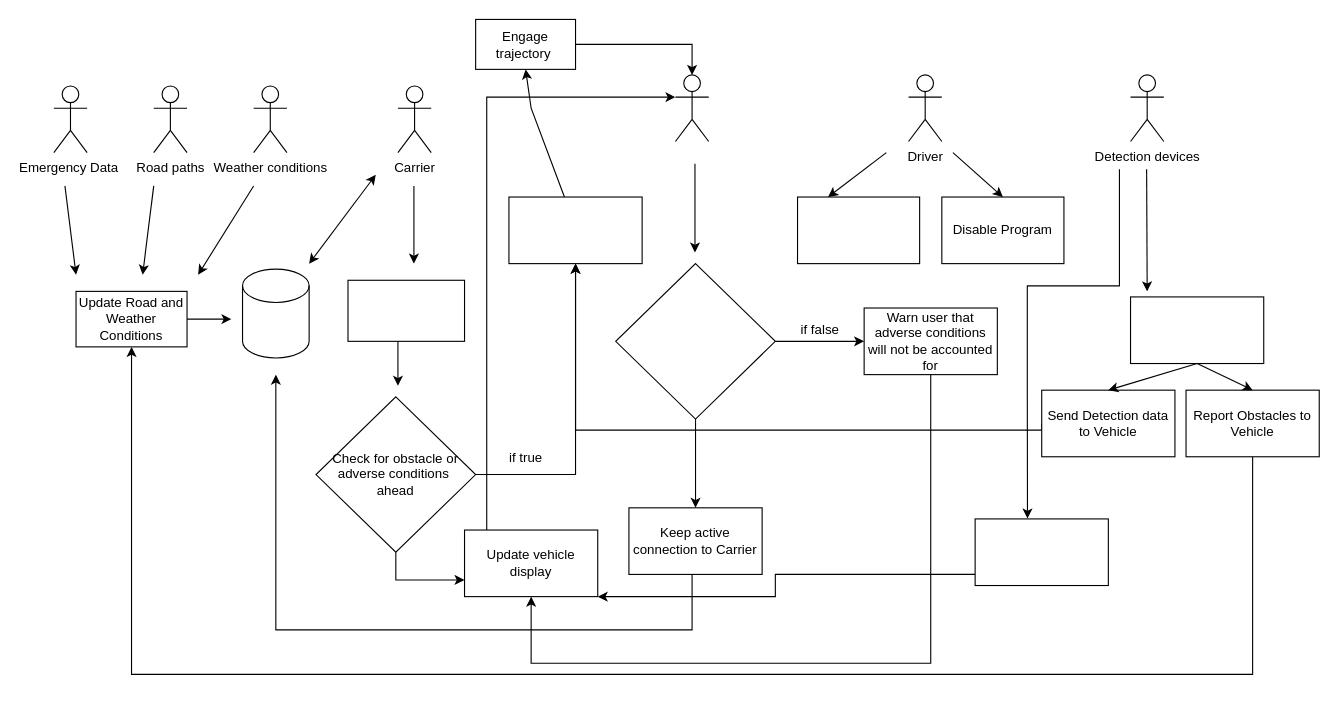
Some shapes in this 1339 by 703 pixel diagram are drawn without their labels. Here are the shapes that lost their labels. From the top down, the centre of each, then its label:
At [691,108]: "Vehicle".
At [575,230]: "Calculate the vehicle trajectory to follow using provided data".
At [858,230]: "Enable Program".
At [275,313]: "Navigation Database".
At [406,310]: "Send navigation data to Vehicle".
At [1196,330]: "Record and monitor sensor/camera readings".
At [695,341]: "Check for stable connection with carrier".
At [1041,552]: "Record and monitor live vehicular state".
